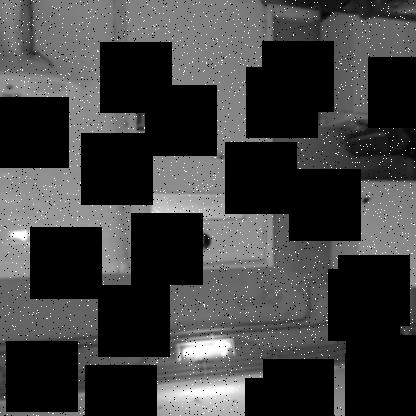Porte: (111, 0, 279, 277)
